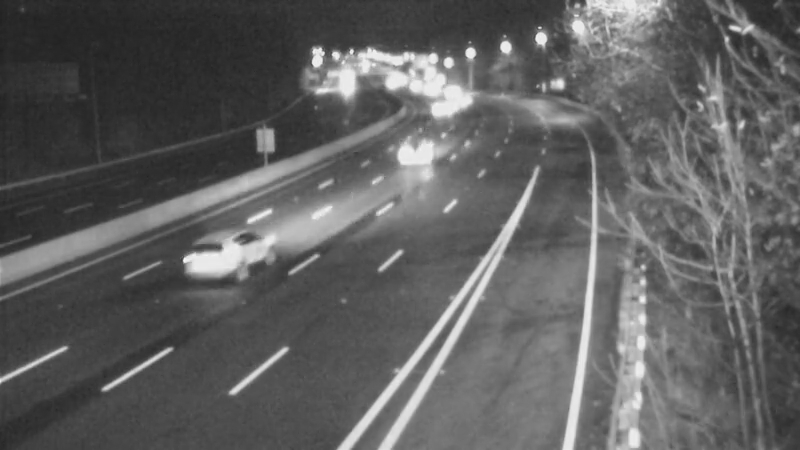vehicle: (378, 112, 458, 192), (177, 214, 257, 294), (403, 63, 453, 113), (423, 63, 473, 113), (436, 74, 486, 124), (417, 86, 467, 136)
